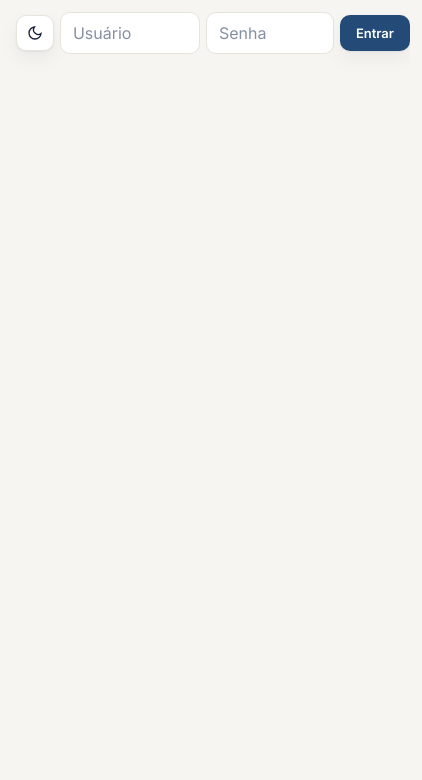
it: AuthPanel › mostra erro padronizado quando o login falha
Type "admin" into the field with placeholder "Usuário".
click(130, 33); type("admin")  # box x1=60 y1=12 x2=200 y2=54
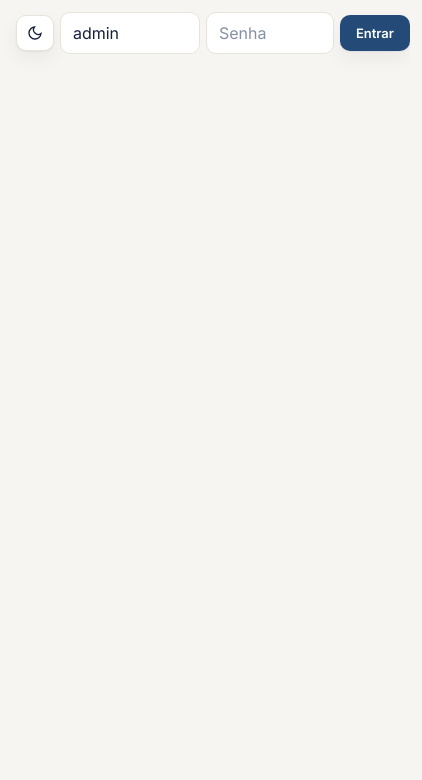
Type "errada" into the password field with placeholder "Senha".
click(270, 33); type("errada")  # box x1=206 y1=12 x2=334 y2=54
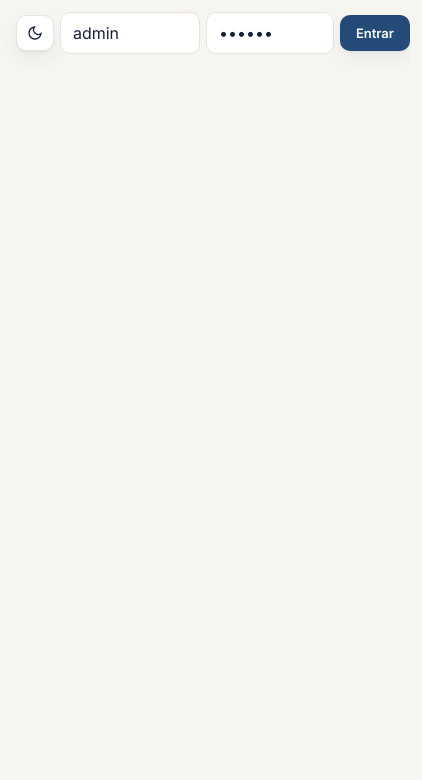
Click the button "Entrar".
click(375, 33)  # box x1=340 y1=15 x2=410 y2=51
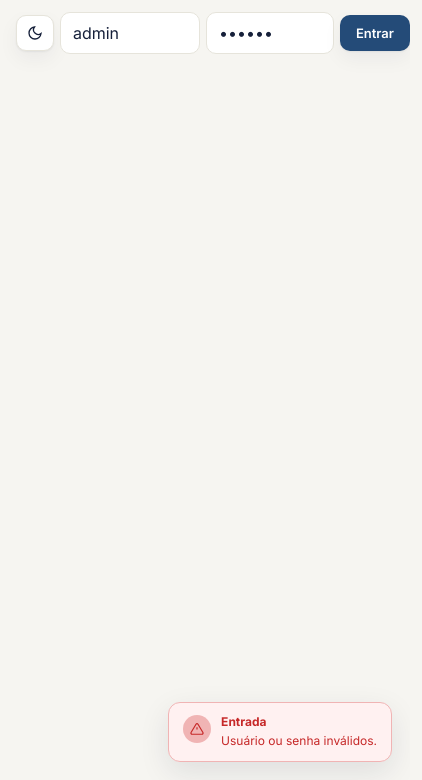
Expected: the message shows "Usuário ou senha inválidos.", x1=221 y1=733 x2=377 y2=748
